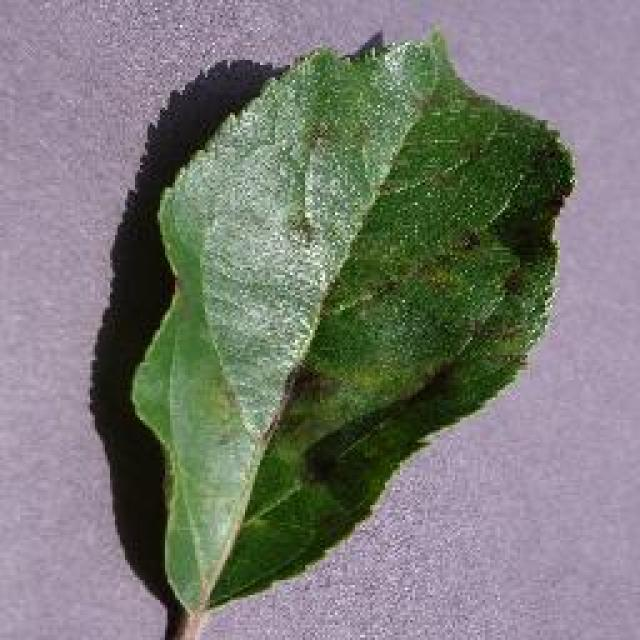apple scab disease: (90, 25, 578, 637)
